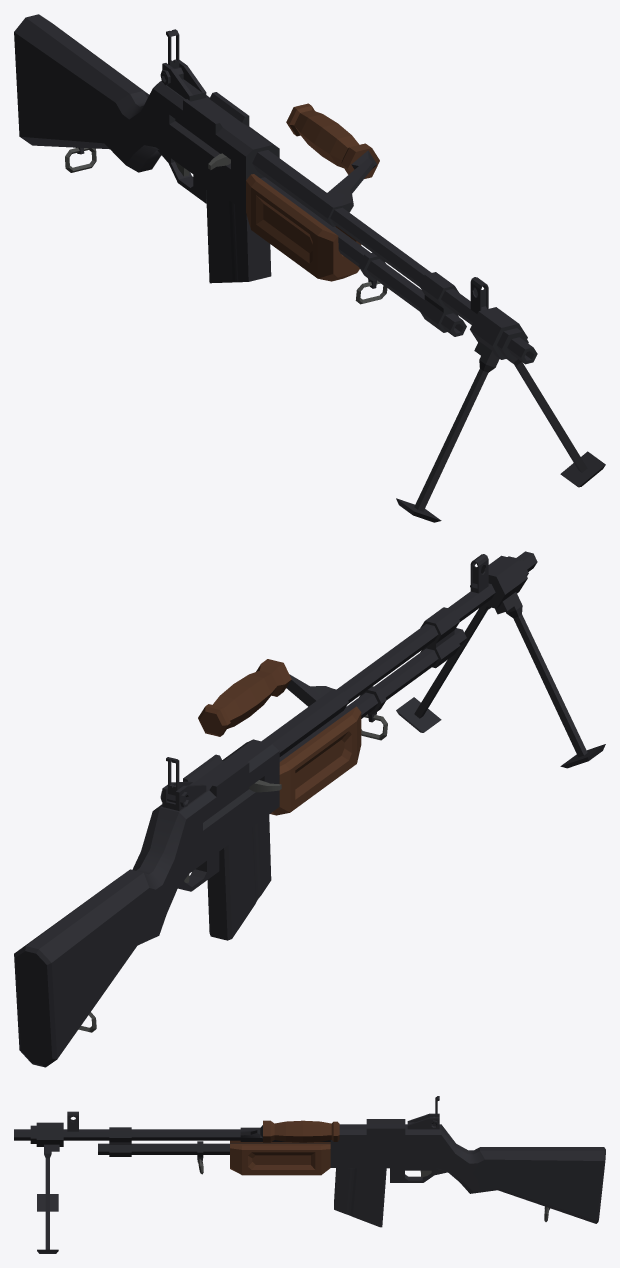
File: LPWarPack_LMG.fbx
The picture shows the model from 3 angles, top to bottom: view 1: azimuth 30°, elevation 25°; view 2: azimuth 150°, elevation 25°; view 3: azimuth 270°, elevation 25°; orthographic projection. The views are drawn at different scales.
Parts seen in each view (by area): view 1: LMG; view 2: LMG; view 3: LMG.
Part boxes in pixels (x1,y1,x2,y2): LMG: (14, 14, 605, 522); LMG: (14, 551, 605, 1067); LMG: (14, 1096, 605, 1253).
Size of the model in its own units: 20.8 by 23.57 by 93.6.
